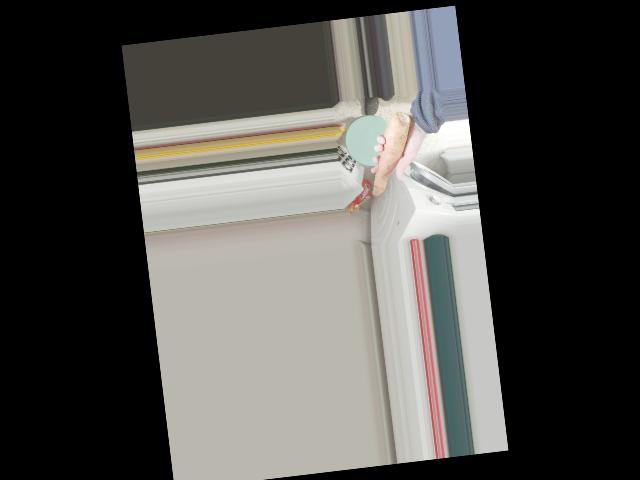sweet_potato: (359, 109, 422, 203)
